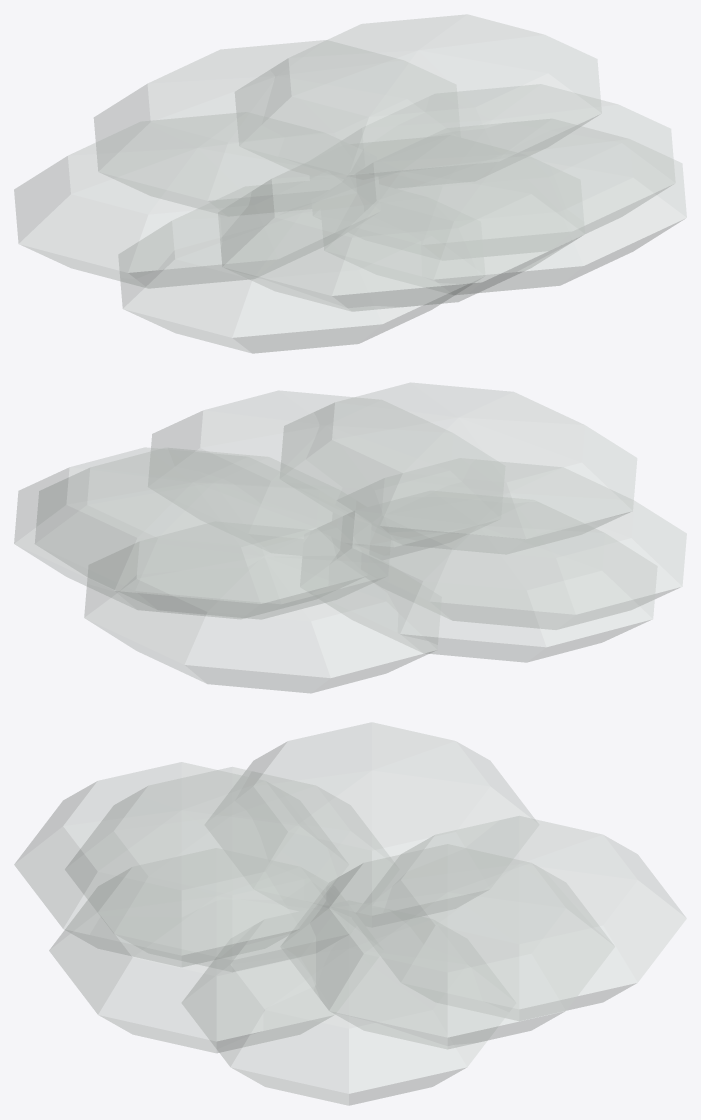
Rendered from f_fog.glb.
The picture shows the model from 3 angles, top to bottom: view 1: azimuth 30°, elevation 25°; view 2: azimuth 150°, elevation 25°; view 3: azimuth 270°, elevation 25°; orthographic projection. The views are drawn at different scales.
Visible parts, largest first — view 1: block_overlapping-water-vapor (×7); view 2: block_overlapping-water-vapor (×7); view 3: block_overlapping-water-vapor (×7).
Boxes of the visible parts, <box> form: block_overlapping-water-vapor (×7): <box>14,14,686,353</box>; block_overlapping-water-vapor (×7): <box>14,382,686,693</box>; block_overlapping-water-vapor (×7): <box>14,722,686,1105</box>.
Size of the model in its own units: 0.7305 by 0.168 by 0.6383.
Materials: 1 (1 with a texture image).
